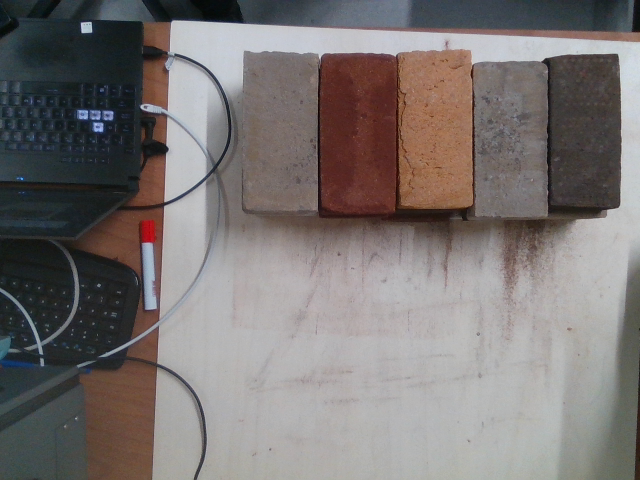brick: (240, 55, 319, 206), (397, 51, 473, 205), (321, 57, 396, 207), (476, 64, 549, 214), (551, 57, 622, 209)
